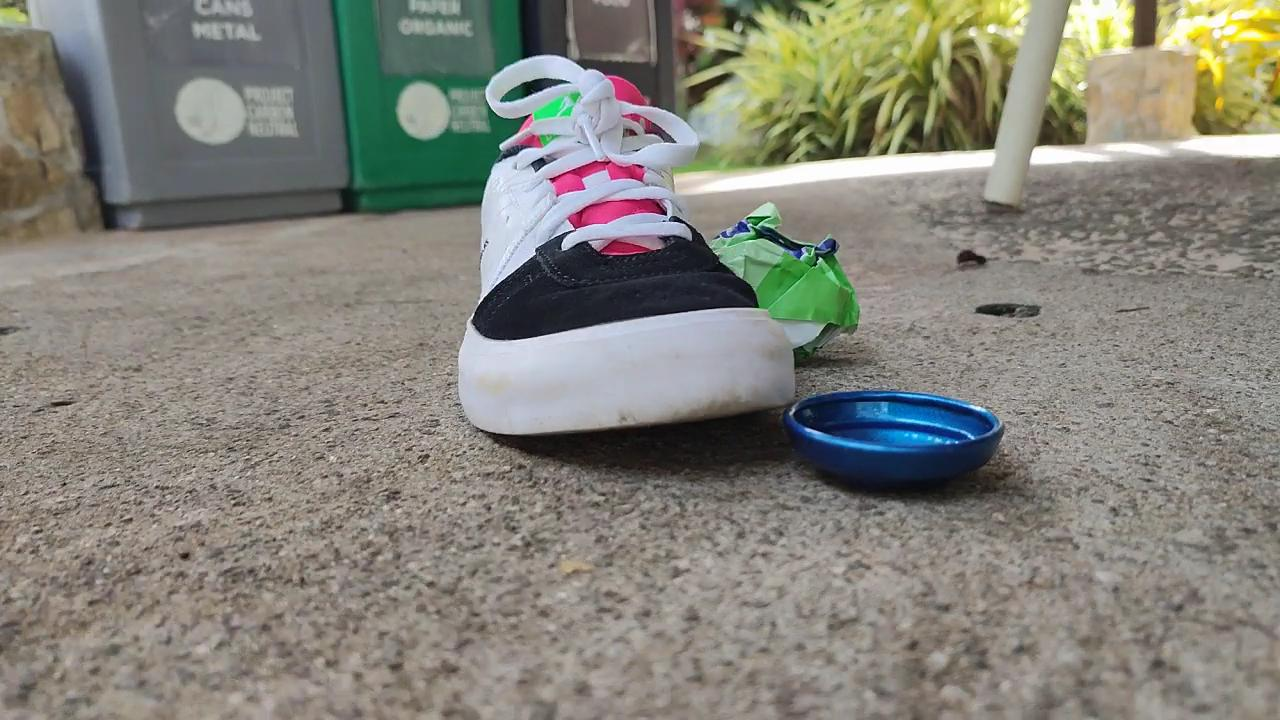Paper: (705, 182, 865, 370)
